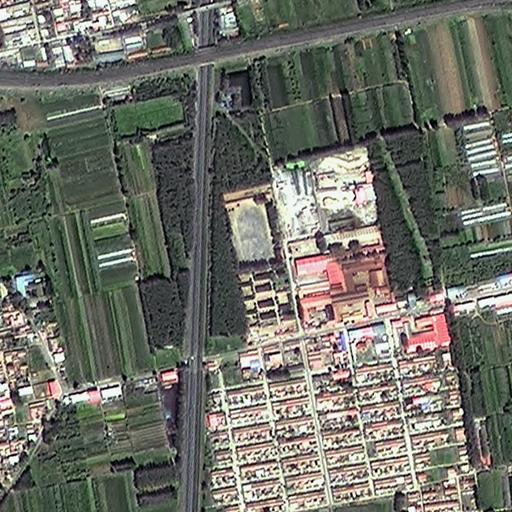school: (221, 180, 300, 336)
